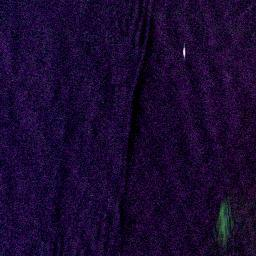Ship: (179, 43, 190, 61)
